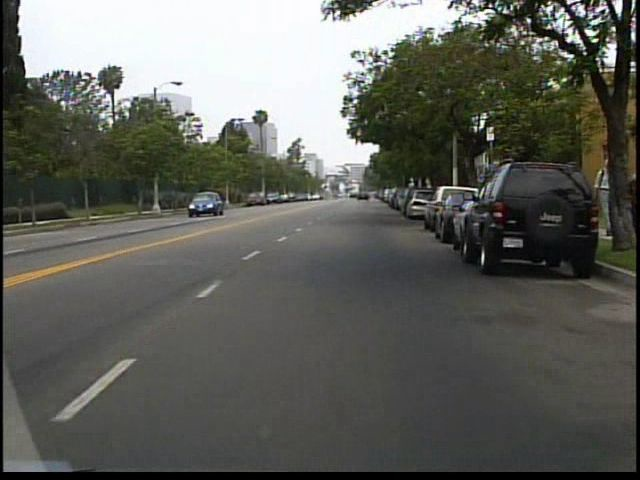person: (587, 155, 613, 241), (617, 160, 639, 243)
